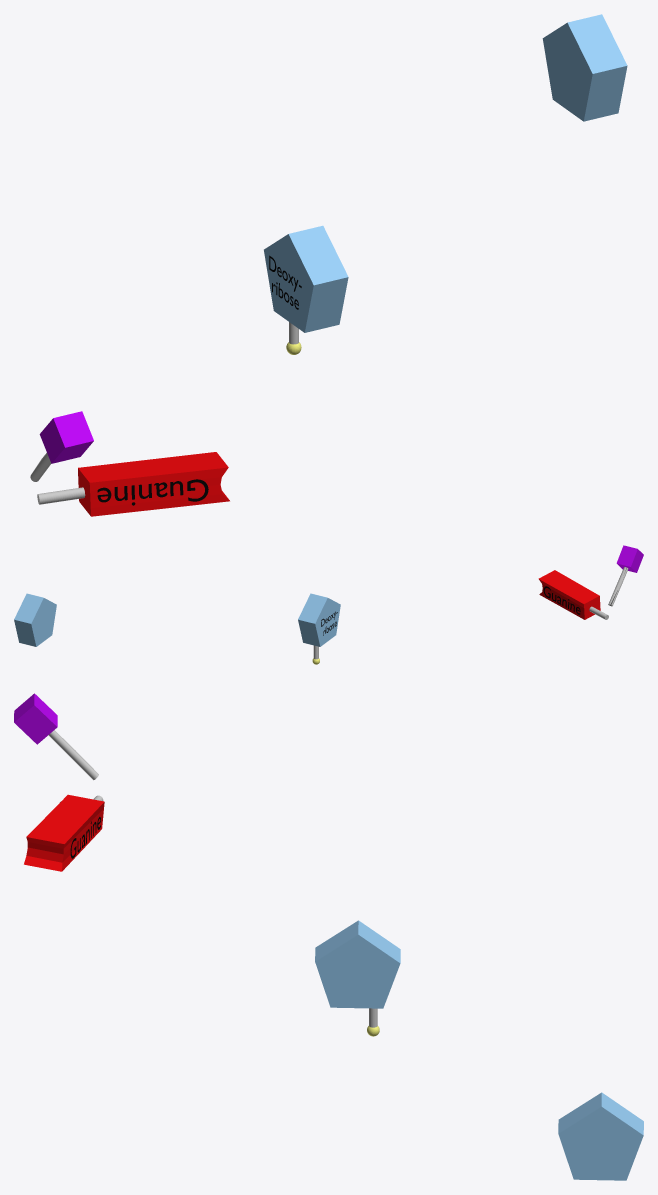
File: guanine.glb
3 views of the same model, one above another, from view 1: azimuth 30°, elevation 25°; view 2: azimuth 150°, elevation 25°; view 3: azimuth 270°, elevation 25° (orthographic). The views are drawn at different scales.
Parts seen in each view (by area): view 1: Deoxyribose.006 (×2), Connector_Ribose_Base.002, Phosphate.002, GuanineText.001; view 2: Deoxyribose.006 (×2), Connector_Ribose_Base.002, Phosphate.002, GuanineText; view 3: Deoxyribose.006 (×2), Connector_Ribose_Base.002, Phosphate.002.
Part boxes in pixels (<box>): Deoxyribose.006 (×2): <box>264,14,627,332</box>; Connector_Ribose_Base.002: <box>37,452,229,516</box>; Phosphate.002: <box>30,411,93,481</box>; GuanineText.001: <box>97,479,208,505</box>; Deoxyribose.006 (×2): <box>14,593,340,646</box>; Connector_Ribose_Base.002: <box>538,570,608,619</box>; Phosphate.002: <box>608,545,643,606</box>; GuanineText: <box>543,586,580,614</box>; Deoxyribose.006 (×2): <box>315,920,643,1180</box>; Connector_Ribose_Base.002: <box>24,794,104,871</box>; Phosphate.002: <box>14,693,98,780</box>.
Bounding box in the file's own units: 7.67 × 1.58 × 5.61.
